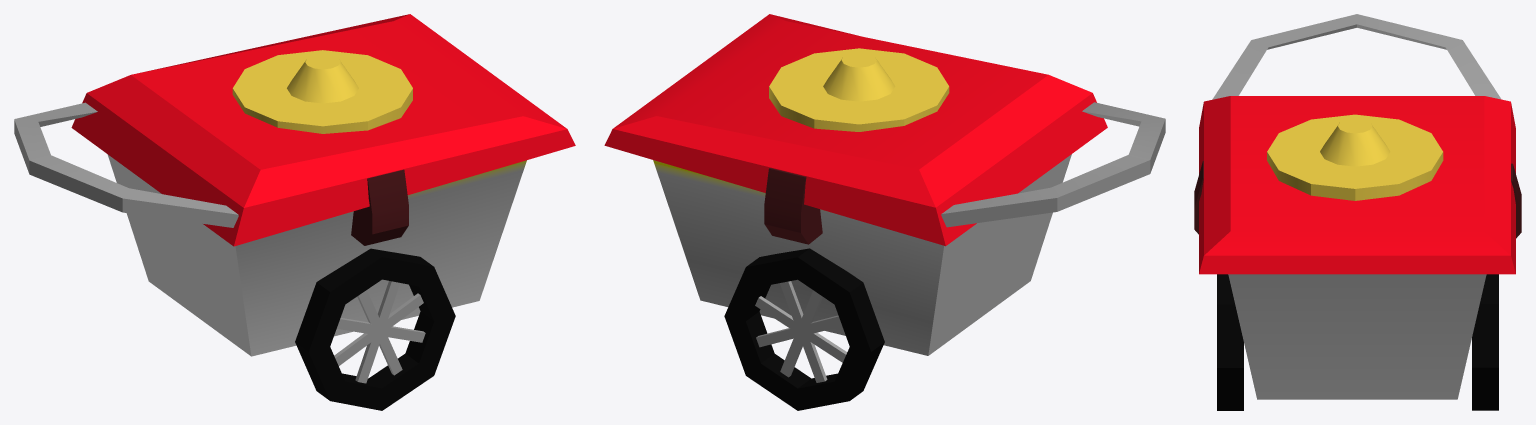
The model's file is CarrinhoSorveteLOD0.fbx.
The picture shows the model from 3 angles, left to right: view 1: azimuth 30°, elevation 25°; view 2: azimuth 150°, elevation 25°; view 3: azimuth 270°, elevation 25°; orthographic projection. The views are drawn at different scales.
Parts seen in each view (by area): view 1: CarrinhoSorveteLOD0; view 2: CarrinhoSorveteLOD0; view 3: CarrinhoSorveteLOD0.
Part boxes in pixels (<box>): CarrinhoSorveteLOD0: <box>14,14,575,410</box>; CarrinhoSorveteLOD0: <box>604,14,1165,410</box>; CarrinhoSorveteLOD0: <box>1194,14,1521,410</box>.
Bounding box in the file's own units: 84.85 × 51.32 × 52.96.
